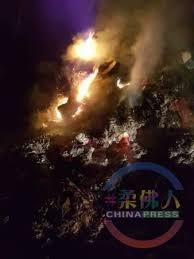fire: (52, 34, 107, 121)
